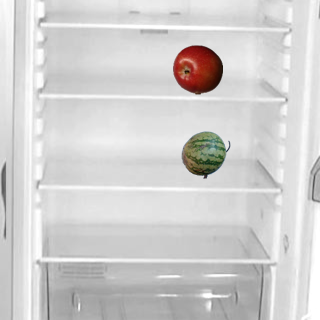Apple Braeburn: (172, 44, 222, 94)
Watermelon: (180, 129, 230, 179)
